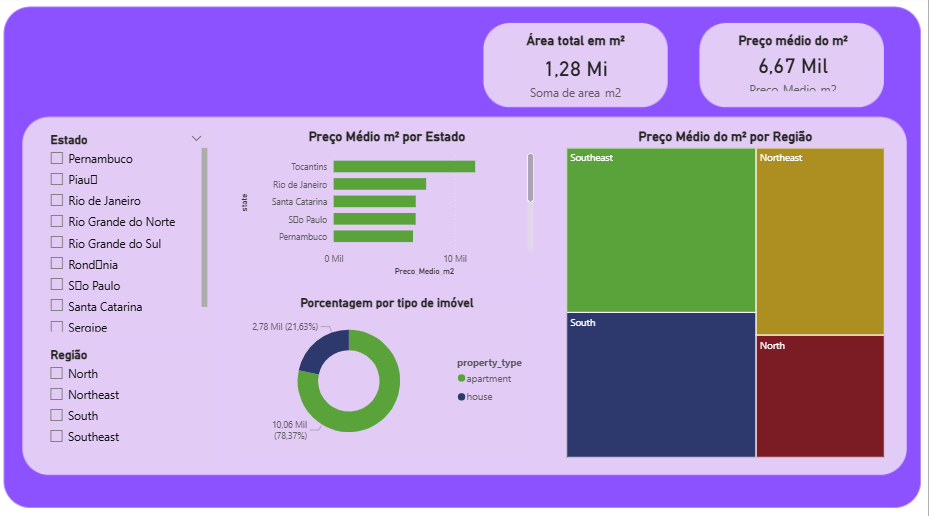

This screenshot's page, from the dashboard's own definition file:
{"tool":"powerbi","page":{"name":"Página 1","canvas":[1280,720],"ordinal":0},"visuals":[{"type":"card","title":"Preço médio do m² ","fields":{"Values":["public imoveis_brasil.Medida Teste 1"]},"box":[1059.8,386.8,172,287.7],"z":0},{"type":"card","title":"Área total em m²","fields":{"Values":["Sum(public imoveis_brasil.area_m2)"]},"box":[805.2,386.8,209.2,287.7],"z":1},{"type":"clusteredBarChart","title":"Preço Médio m² por Estado","fields":{"Category":["public imoveis_brasil.state"],"Y":["public imoveis_brasil.Preco_Medio_m2"]},"box":[283.5,27.5,436.3,333.1],"z":3},{"type":"treemap","title":"Preço Médio do m² por Região","fields":{"Group":["public imoveis_brasil.region"],"Values":["public imoveis_brasil.Preco_Medio_m2"]},"box":[795.5,27.5,436.3,333.1],"z":4},{"type":"donutChart","title":"Porcentagem por tipo de imóvel","fields":{"Category":["public imoveis_brasil.property_type"],"Y":["CountNonNull(public imoveis_brasil.state)"]},"box":[305.5,411.5,436.3,262.9],"z":5},{"type":"slicer","fields":{"Values":["public imoveis_brasil.state"]},"box":[28.9,27.5,207.8,333.1],"z":6},{"type":"slicer","fields":{"Values":["public imoveis_brasil.region"]},"box":[29,412,208,263],"z":7}]}

Visuals, with their boxes in screenshot pixels (x1, y1, x2, y2), scaled from the page's 1280x720 canvas onto the 929x516 screenshot:
"Preço médio do m² " card: bbox(769, 277, 894, 483)
"Área total em m²" card: bbox(584, 277, 736, 483)
"Preço Médio m² por Estado" clusteredBarChart: bbox(206, 20, 522, 258)
"Preço Médio do m² por Região" treemap: bbox(577, 20, 894, 258)
"Porcentagem por tipo de imóvel" donutChart: bbox(222, 295, 538, 483)
slicer - public imoveis_brasil.state: bbox(21, 20, 172, 258)
slicer - public imoveis_brasil.region: bbox(21, 295, 172, 484)
